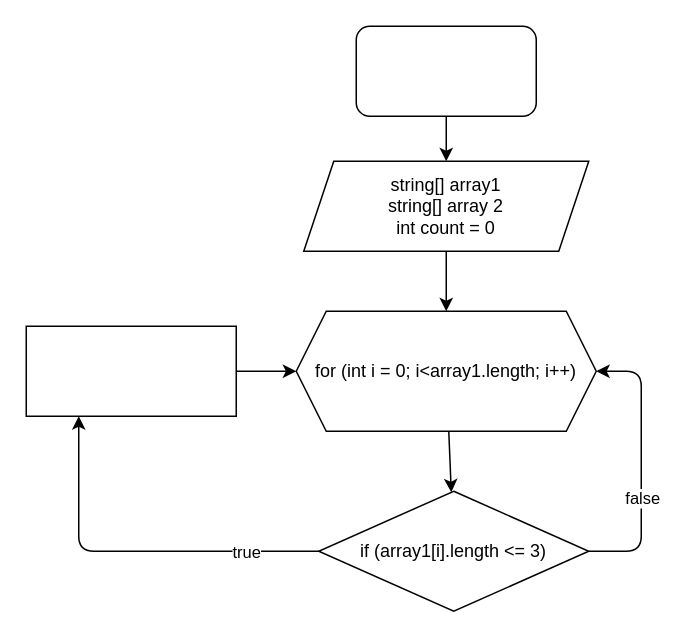
Some shapes in this 686 by 638 pixel diagram are drawn without their labels. The box of each missing label's shape, as (x1, y1, x2, y2) in pixels:
array2[count] = array1[i] count ++;: (25, 325, 236, 416)
SecondArrayWithIf: (355, 25, 536, 116)
